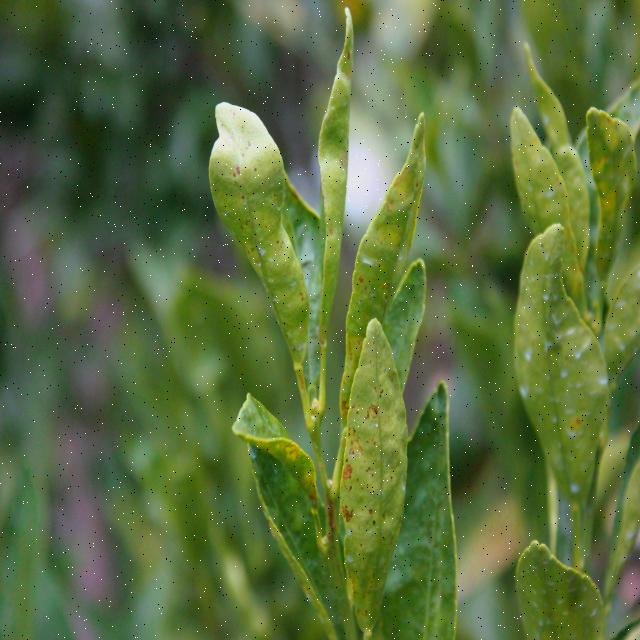canker: (344, 360, 404, 593), (220, 104, 287, 279)
